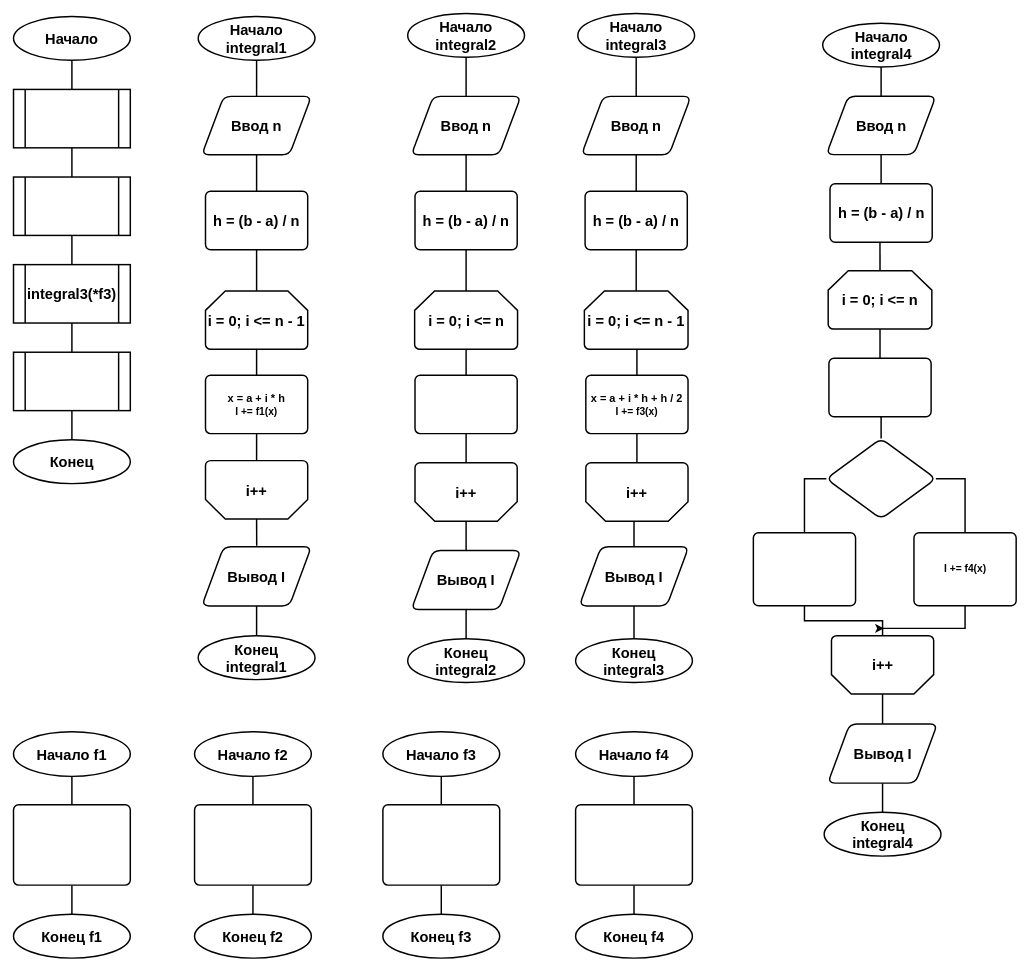
The diagram is 1029 pixels wide and 971 high, and some of its shapes have lost their labels. Here are the shapes that lost their labels. From the top down, the centre of each, then its label:
At (71,118): "integral1(*f1)".
At (71,206): "integral2(*f2)".
At (71,381): "integral4(*f4)".
At (879,387): "x = a + i * h".
At (466,404): "x = a + i * h I += f2(x)".
At (880,478): "i == 0 || i == n".
At (804,569): "I += f4(x) / 2".
At (71,844): "Возврат sqrt(0.4 * x * x + 1.5) / (2.5 + sqrt(2 * x + 0.8))".
At (252,844): "Возврат cos(x * x + 0.8) / (1.5 + sin(0.6 * x + 0.5))".
At (441,844): "Возврат 1 / sqrt(1 + 2 * x * x)".
At (634,844): "Возврат tan(x * x + 0.5) / (1 + 2 * pow(x, 2))".
